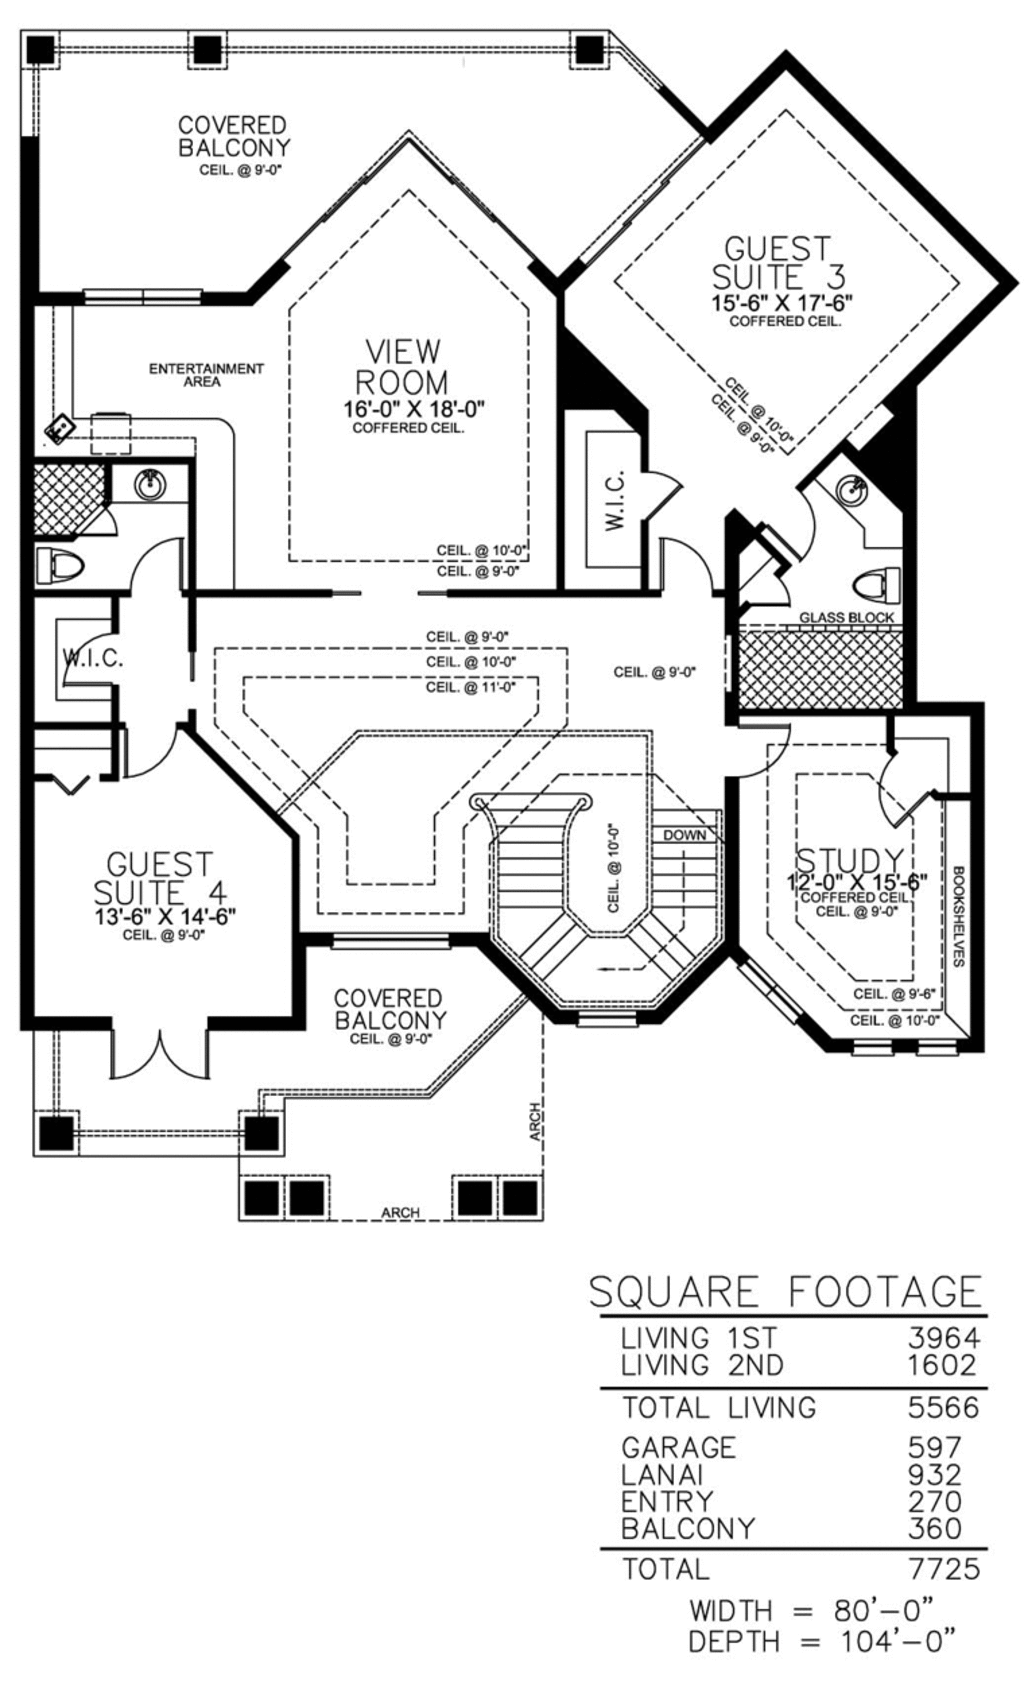door: (95, 1014, 211, 1084), (866, 748, 929, 823), (126, 537, 191, 604), (114, 721, 184, 780), (737, 718, 798, 785), (654, 540, 718, 600), (770, 491, 820, 563), (645, 464, 688, 528)
large_sink: (31, 543, 97, 591), (853, 564, 902, 612)
small_sink: (114, 459, 191, 509), (830, 470, 875, 515)
stairs: (461, 783, 723, 1009)
windows: (854, 1022, 959, 1068), (320, 923, 454, 958), (77, 284, 204, 311)
